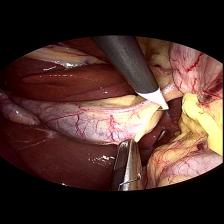Grasper: (105, 134, 154, 191)
Hook: (132, 76, 176, 115)
